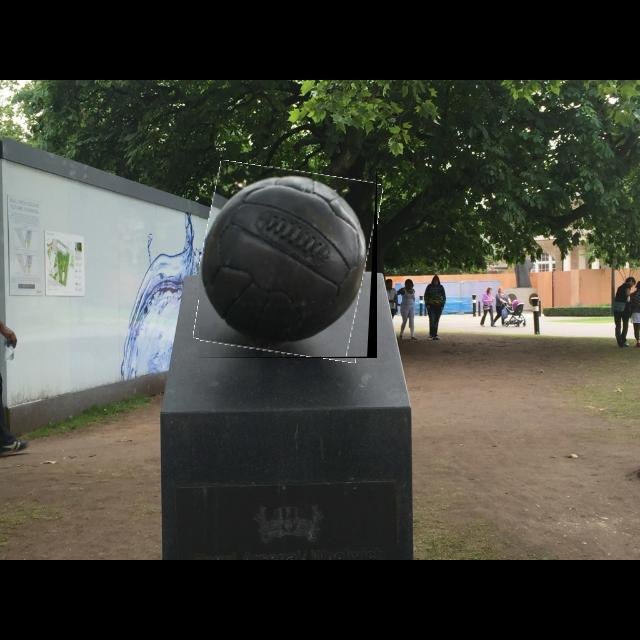Football: (199, 166, 377, 358)
